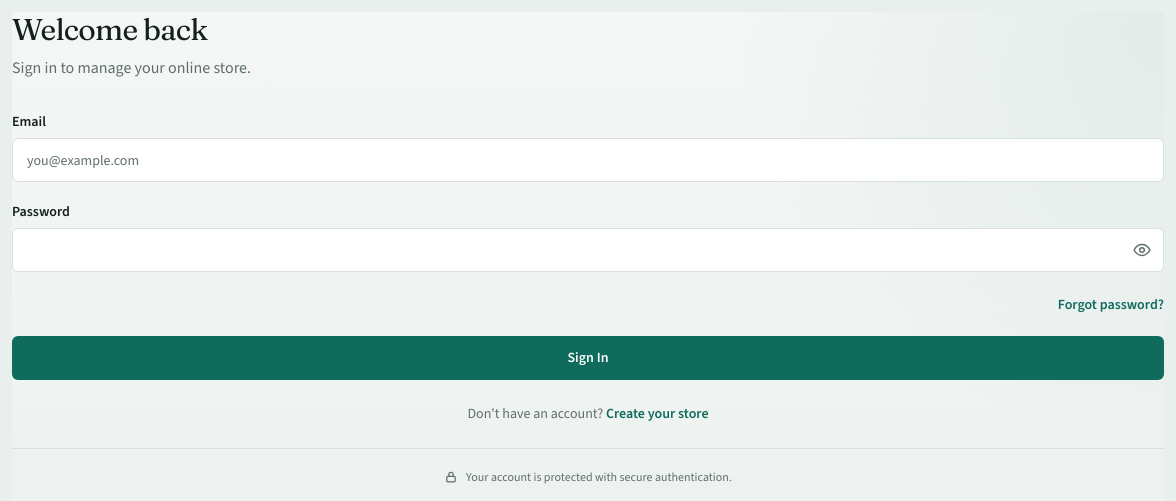
it: Login form › shows a loading state and blocks duplicate submissions
Type "merchant@example.com" into the field labelled "Email".
click(588, 160); type("merchant@example.com")  # box [12,138,1164,182]
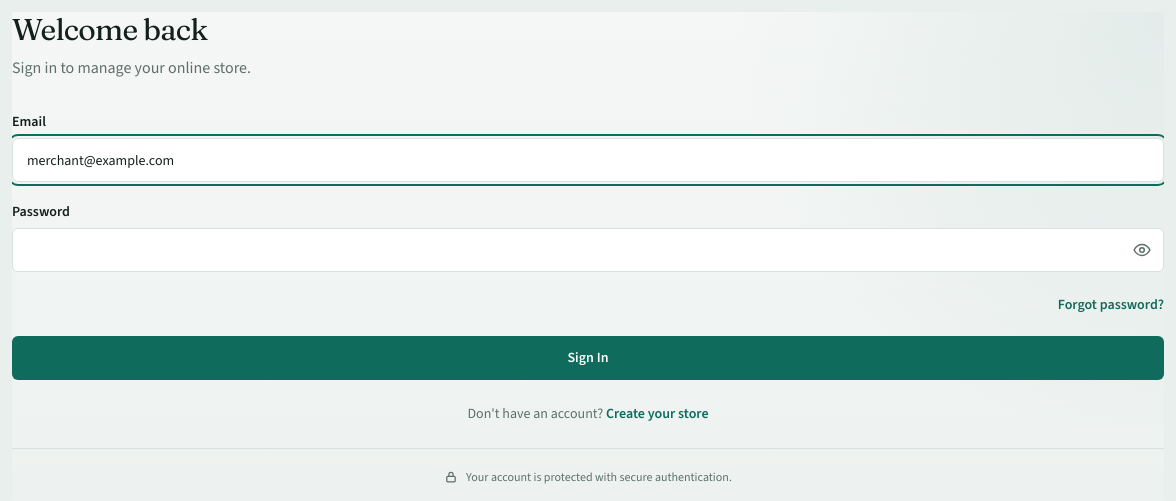
Type "SecurePass1" into the password field labelled "Password".
click(588, 250); type("SecurePass1")  # box [12,228,1164,272]
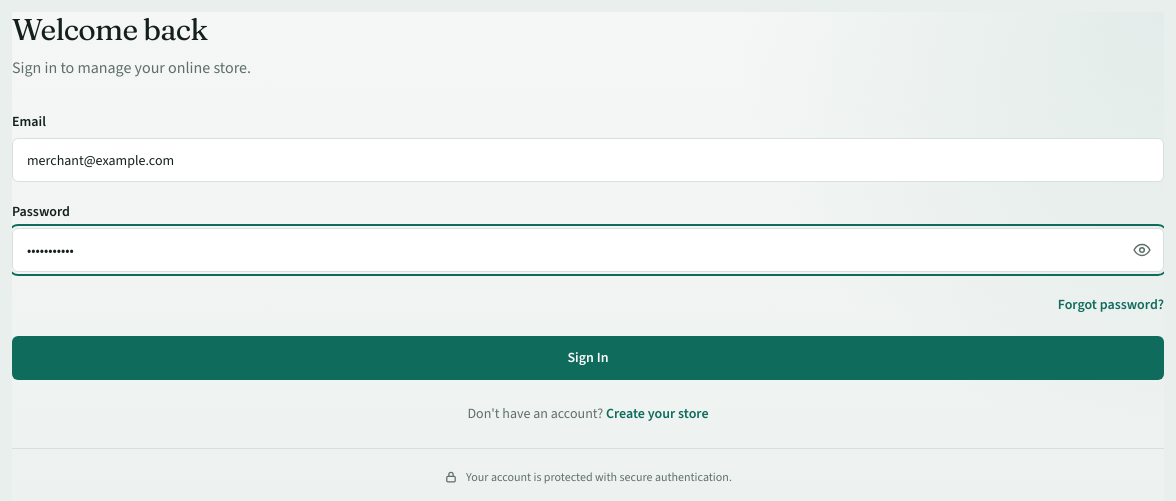
Click the button "Sign In".
click(588, 358)  # box [12,336,1164,380]
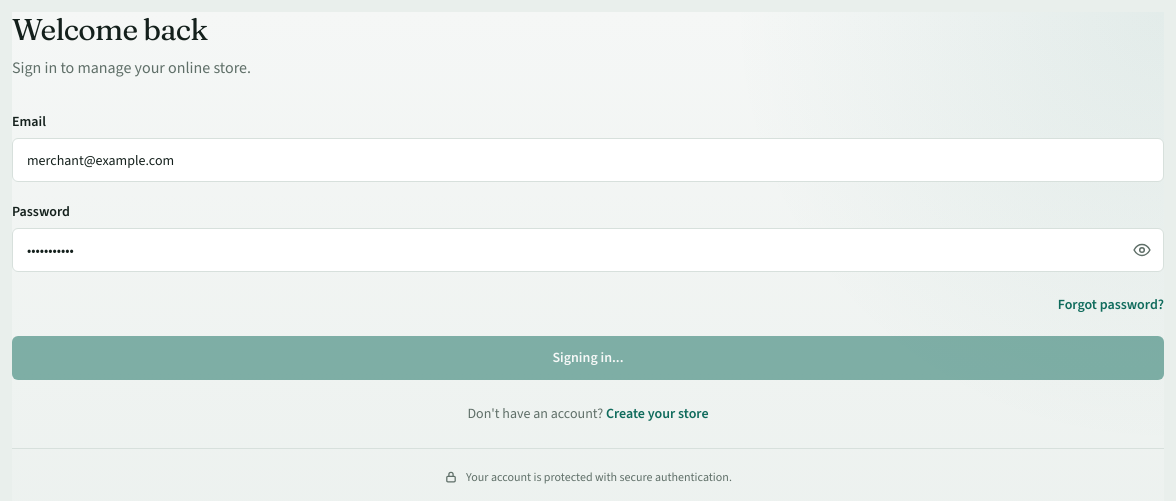
Expected: the button "Signing in..." is disabled
Click the button "Signing in...".
click(588, 358)  # box [12,336,1164,380]
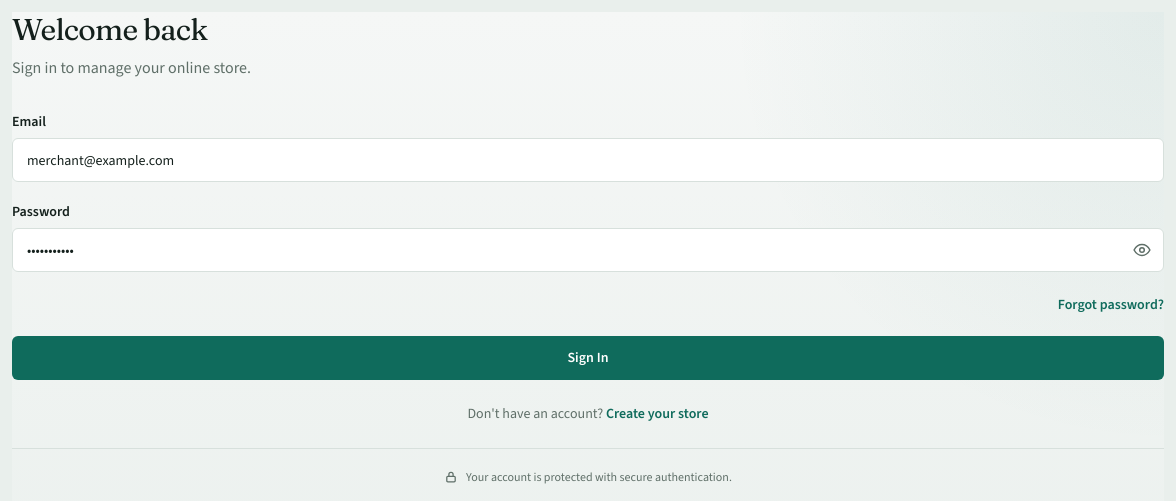
Expected: the button "Sign In" is enabled, [12,336,1164,380]
